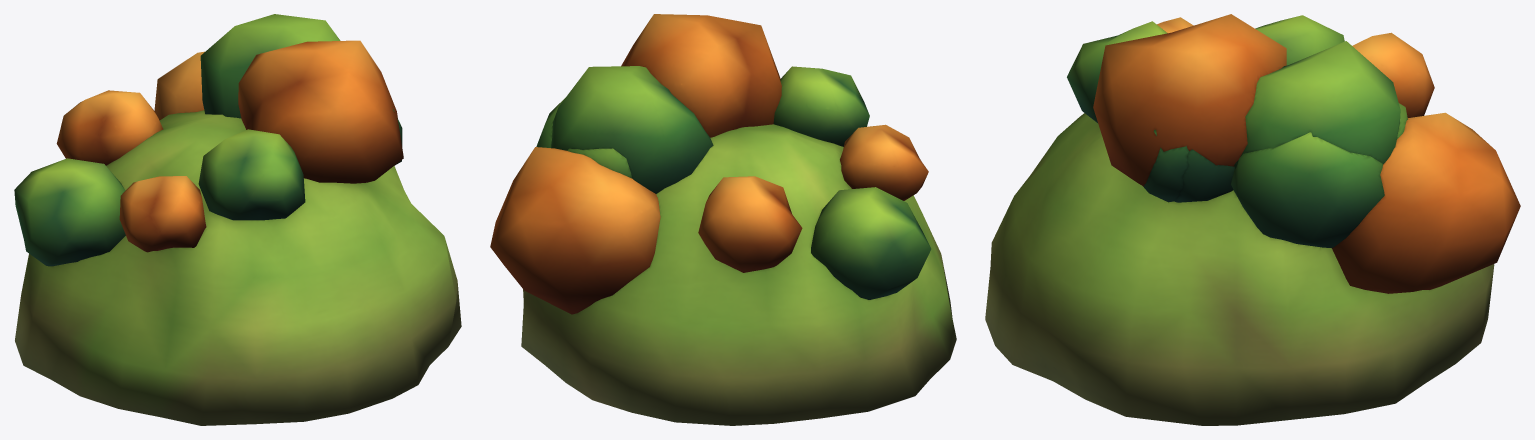
The model's file is hill_b.glb.
3 views of the same model, side by side, from view 1: azimuth 30°, elevation 25°; view 2: azimuth 150°, elevation 25°; view 3: azimuth 270°, elevation 25° (orthographic). The views are drawn at different scales.
Parts seen in each view (by area): view 1: hill_b; view 2: hill_b; view 3: hill_b.
Part boxes in pixels (x1=…): hill_b: x1=14, y1=14, x2=461, y2=425; hill_b: x1=490, y1=14, x2=956, y2=425; hill_b: x1=985, y1=14, x2=1520, y2=425.
Size of the model in its own units: 1.81 by 1.25 by 1.87.
Materials: 1 (1 with a texture image).
